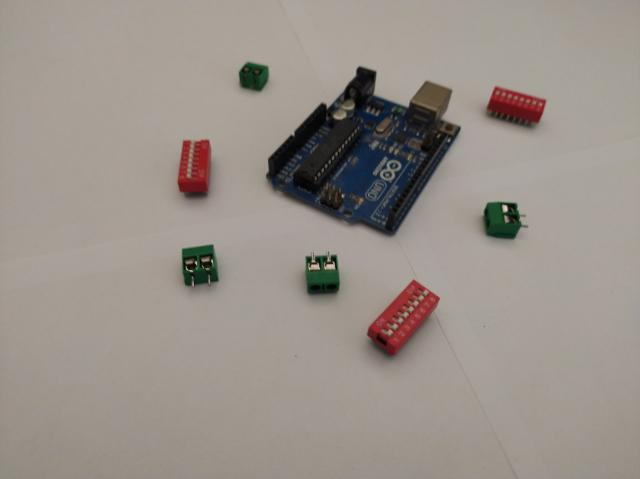arduino: (266, 67, 462, 233)
dip_switch: (368, 279, 440, 357), (488, 86, 546, 128), (177, 140, 211, 194)
terminal_block: (482, 201, 530, 237), (182, 244, 220, 288), (304, 251, 341, 294), (238, 62, 270, 91)
